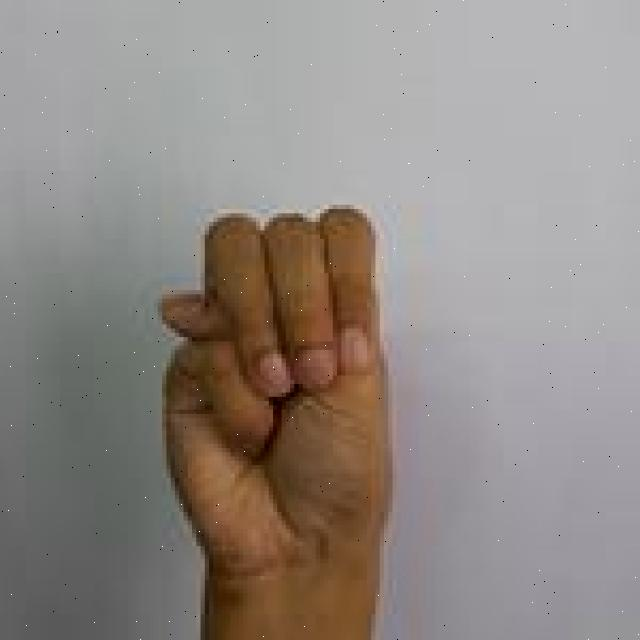M: (152, 202, 405, 640)
